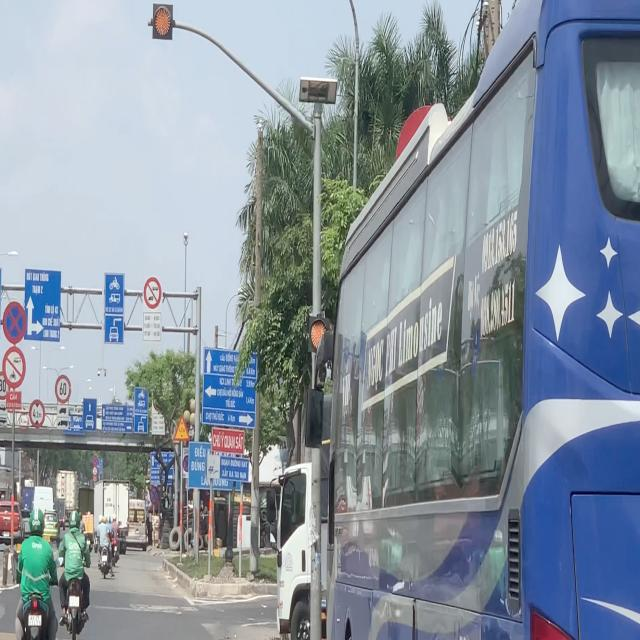Cam dung va do: (2, 301, 27, 344), (150, 486, 159, 505), (183, 454, 192, 473), (92, 455, 98, 466)
Chieu cao toi da: (29, 399, 46, 429)
Nguy hiem: (173, 415, 191, 441)
Toc do toi da: (54, 374, 72, 404), (0, 370, 10, 400)
